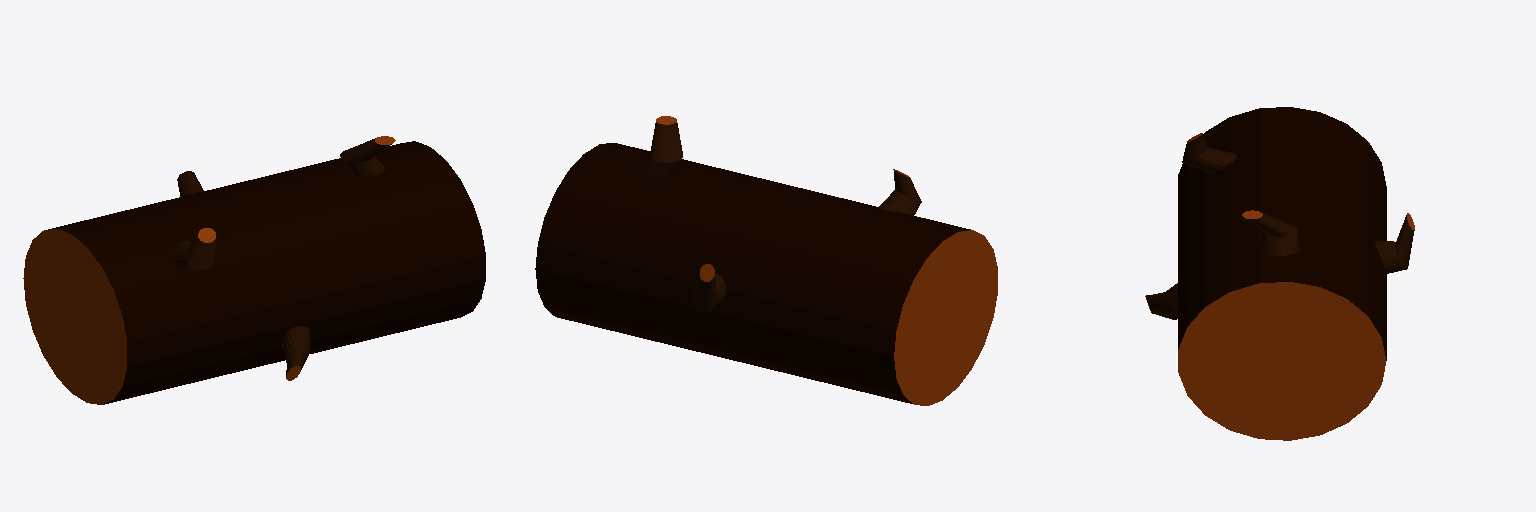
The model's file is rond1_LOD0.obj.
3 views of the same model, side by side, from view 1: azimuth 30°, elevation 25°; view 2: azimuth 150°, elevation 25°; view 3: azimuth 270°, elevation 25° (orthographic).
Visible parts, largest first — view 1: Tronc_Cylinder, branches_Cylinder.001; view 2: Tronc_Cylinder, branches_Cylinder.001; view 3: Tronc_Cylinder, branches_Cylinder.001.
Part boxes in pixels (bbox=[...]): Tronc_Cylinder: bbox=[23, 141, 485, 404]; branches_Cylinder.001: bbox=[173, 136, 395, 380]; Tronc_Cylinder: bbox=[535, 143, 997, 405]; branches_Cylinder.001: bbox=[639, 116, 921, 312]; Tronc_Cylinder: bbox=[1178, 107, 1386, 440]; branches_Cylinder.001: bbox=[1145, 133, 1414, 319].
Size of the model in its own units: 3.96 by 2.05 by 2.58.